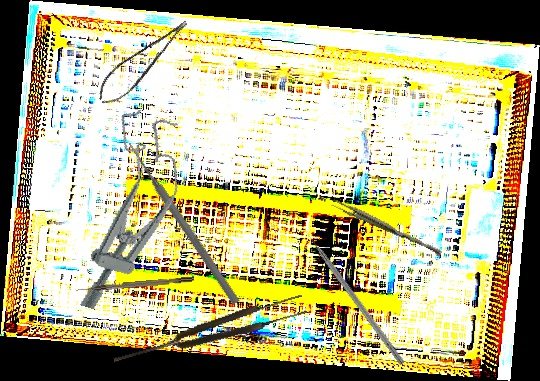Hook Surgical: (298, 222, 406, 366), (75, 276, 195, 293)
Micro Scissor: (89, 17, 201, 110)
Pusher: (124, 140, 242, 306)
Speculum: (64, 105, 198, 323)
Tissue Forceps: (110, 292, 308, 371), (329, 198, 445, 257)
